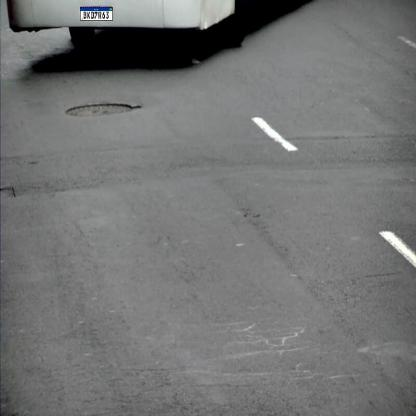PlacaM: (80, 7, 113, 21)
